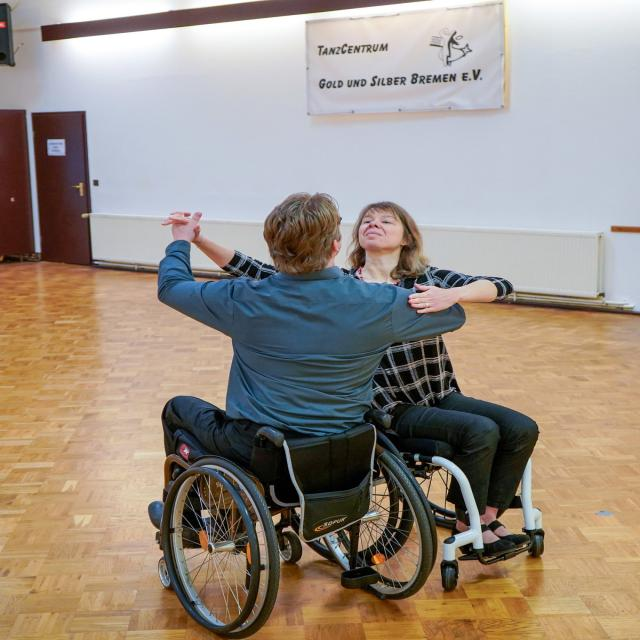wheelchairs: (144, 400, 371, 638), (365, 394, 570, 601)
